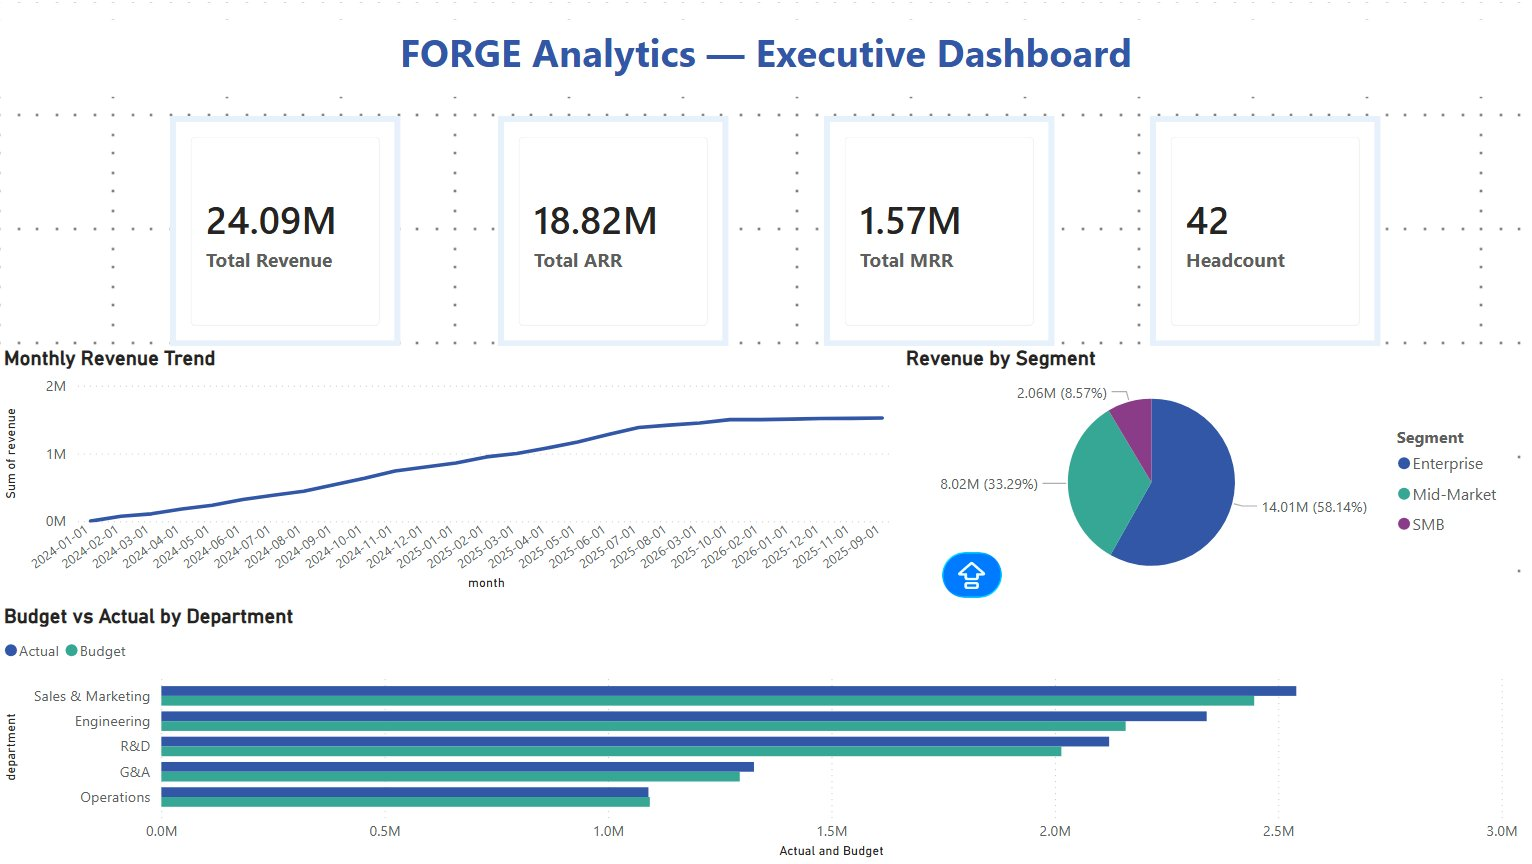

The dashboard page shown, as its layout file describes it:
{"tool":"powerbi","page":{"name":"Page 1","canvas":[1280,720],"ordinal":0},"visuals":[{"type":"cardVisual","fields":{"Data":["Sum(revenue_transactions.revenue)"]},"box":[144,96,192,192],"z":0},{"type":"cardVisual","fields":{"Data":["Sum(contracts.arr)"]},"box":[416,96,192,192],"z":1000},{"type":"cardVisual","fields":{"Data":["CountNonNull(headcount.employee_id)"]},"box":[960,96,192,192],"z":2000},{"type":"cardVisual","fields":{"Data":["Sum(contracts.mrr)"]},"box":[688,96,192,192],"z":3000},{"type":"pieChart","title":"Revenue by Segment","fields":{"Category":["revenue_transactions.segment"],"Y":["Sum(revenue_transactions.revenue)"]},"box":[752,288,512,208],"z":4000},{"type":"lineChart","title":"Monthly Revenue Trend","fields":{"Category":["revenue_transactions.month"],"Y":["Sum(revenue_transactions.revenue)"]},"box":[0,288,752,208],"z":5000},{"type":"clusteredBarChart","title":"Budget vs Actual by Department","fields":{"Category":["budget.department"],"Y":["Sum(budget.actual_opex)","Sum(budget.budgeted_opex)"]},"box":[0,504,1272,216],"z":6000},{"type":"textbox","box":[0,16,1280,64],"z":7000}]}

Visuals, with their boxes in screenshot pixels (x1, y1, x2, y2), scaled from the page's 1280x720 canvas onto the 1532x864 screenshot:
cardVisual - Sum(revenue_transactions.revenue): l=172, t=115, r=402, b=346
cardVisual - Sum(contracts.arr): l=498, t=115, r=728, b=346
cardVisual - CountNonNull(headcount.employee_id): l=1149, t=115, r=1379, b=346
cardVisual - Sum(contracts.mrr): l=823, t=115, r=1053, b=346
"Revenue by Segment" pieChart: l=900, t=346, r=1513, b=595
"Monthly Revenue Trend" lineChart: l=0, t=346, r=900, b=595
"Budget vs Actual by Department" clusteredBarChart: l=0, t=605, r=1522, b=863
textbox: l=0, t=19, r=1531, b=96
